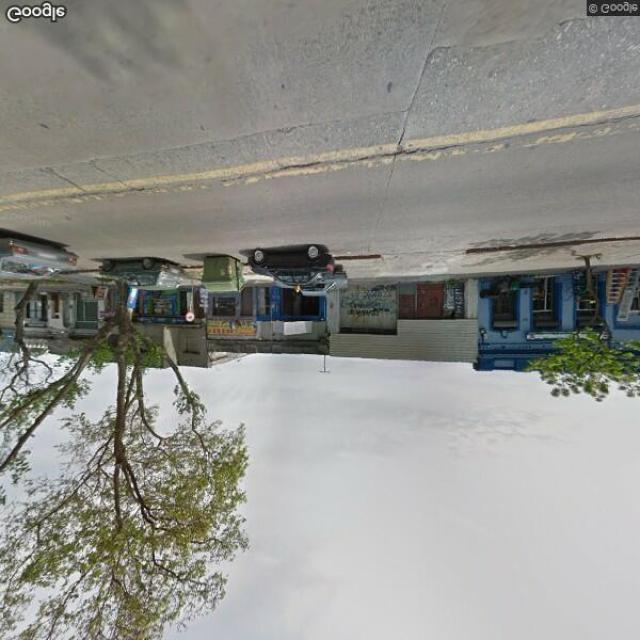garbage container: (196, 254, 251, 299)
